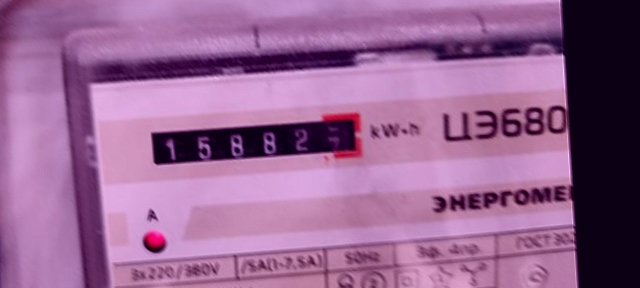1: (163, 136, 178, 162)
2: (293, 126, 309, 151)
5: (195, 133, 212, 160)
7: (326, 132, 341, 152)
8: (228, 132, 245, 159), (261, 129, 277, 155)
screen: (136, 103, 372, 180)
